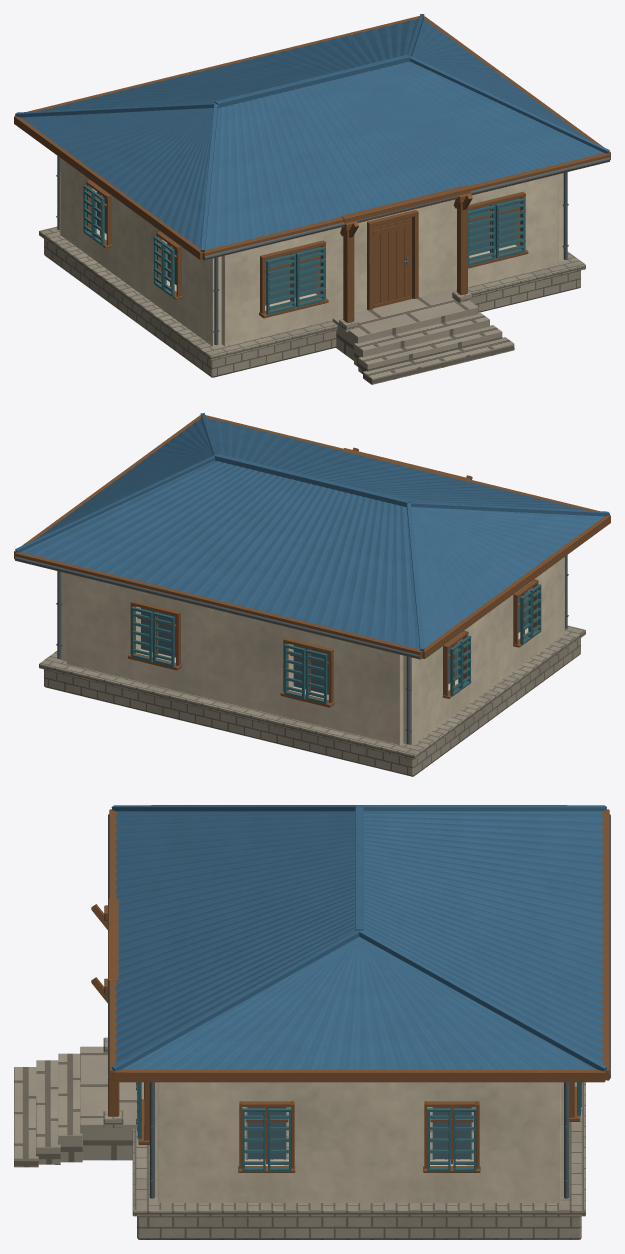
Rendered from Dhivehi_House_01_LOD1_v04.fbx.
3 views of the same model, one above another, from view 1: azimuth 30°, elevation 25°; view 2: azimuth 150°, elevation 25°; view 3: azimuth 270°, elevation 25° (orthographic). The views are drawn at different scales.
Visible parts, largest first — view 1: House_01_LOD1_House_RoofBlue.001_MergedMesh, House_01_LOD1_House_Stucco.001_MergedMesh, House_01_LOD1_House_Limestone.001_MergedMesh, House_01_LOD1_House_Walnut.001_MergedMesh, House_01_LOD1_House_ShutterTeal.001_MergedMesh, House_01_LOD1_House_DarkHardware.001_MergedMesh, House_01_LOD1_House_SmokedGlass.001_MergedMesh; view 2: House_01_LOD1_House_RoofBlue.001_MergedMesh, House_01_LOD1_House_Stucco.001_MergedMesh, House_01_LOD1_House_Limestone.001_MergedMesh, House_01_LOD1_House_Walnut.001_MergedMesh, House_01_LOD1_House_ShutterTeal.001_MergedMesh, House_01_LOD1_House_DarkHardware.001_MergedMesh, House_01_LOD1_House_SmokedGlass.001_MergedMesh; view 3: House_01_LOD1_House_RoofBlue.001_MergedMesh, House_01_LOD1_House_Stucco.001_MergedMesh, House_01_LOD1_House_Limestone.001_MergedMesh, House_01_LOD1_House_Walnut.001_MergedMesh, House_01_LOD1_House_ShutterTeal.001_MergedMesh, House_01_LOD1_House_SmokedGlass.001_MergedMesh, House_01_LOD1_House_DarkHardware.001_MergedMesh.
Boxes of the visible parts, x1,y1,x2,y2 form: House_01_LOD1_House_RoofBlue.001_MergedMesh: (15, 14, 609, 251); House_01_LOD1_House_Stucco.001_MergedMesh: (60, 158, 564, 346); House_01_LOD1_House_Limestone.001_MergedMesh: (39, 226, 585, 384); House_01_LOD1_House_Walnut.001_MergedMesh: (14, 16, 610, 322); House_01_LOD1_House_ShutterTeal.001_MergedMesh: (83, 185, 525, 314); House_01_LOD1_House_DarkHardware.001_MergedMesh: (56, 156, 610, 345); House_01_LOD1_House_SmokedGlass.001_MergedMesh: (97, 191, 515, 305); House_01_LOD1_House_RoofBlue.001_MergedMesh: (15, 413, 609, 650); House_01_LOD1_House_Stucco.001_MergedMesh: (60, 557, 564, 745); House_01_LOD1_House_Limestone.001_MergedMesh: (39, 625, 585, 776); House_01_LOD1_House_Walnut.001_MergedMesh: (14, 415, 610, 707); House_01_LOD1_House_ShutterTeal.001_MergedMesh: (131, 584, 541, 704); House_01_LOD1_House_DarkHardware.001_MergedMesh: (14, 555, 568, 744); House_01_LOD1_House_SmokedGlass.001_MergedMesh: (141, 591, 527, 694); House_01_LOD1_House_RoofBlue.001_MergedMesh: (111, 805, 606, 1071); House_01_LOD1_House_Stucco.001_MergedMesh: (155, 1082, 563, 1202); House_01_LOD1_House_Limestone.001_MergedMesh: (14, 1037, 585, 1239); House_01_LOD1_House_Walnut.001_MergedMesh: (91, 809, 609, 1172); House_01_LOD1_House_ShutterTeal.001_MergedMesh: (137, 1082, 581, 1171); House_01_LOD1_House_SmokedGlass.001_MergedMesh: (247, 1107, 471, 1158); House_01_LOD1_House_DarkHardware.001_MergedMesh: (108, 814, 610, 1198).
Size of the model in its own units: 10.5 by 4.72 by 10.
7 materials, 5 textured.
